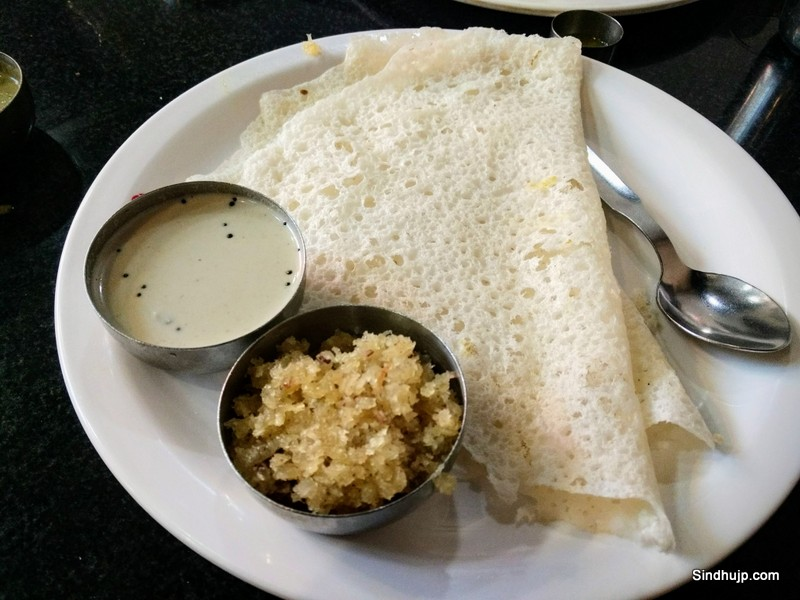dosa: (186, 33, 716, 560)
